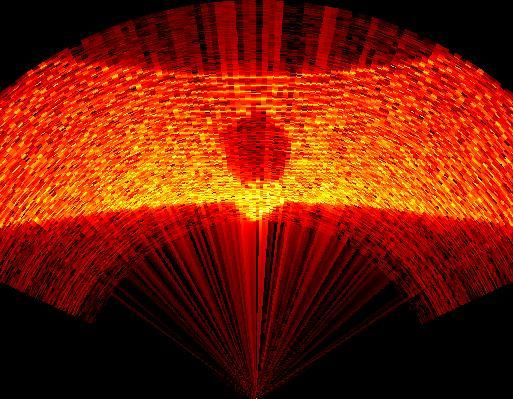box_crate: (213, 102, 297, 195)
